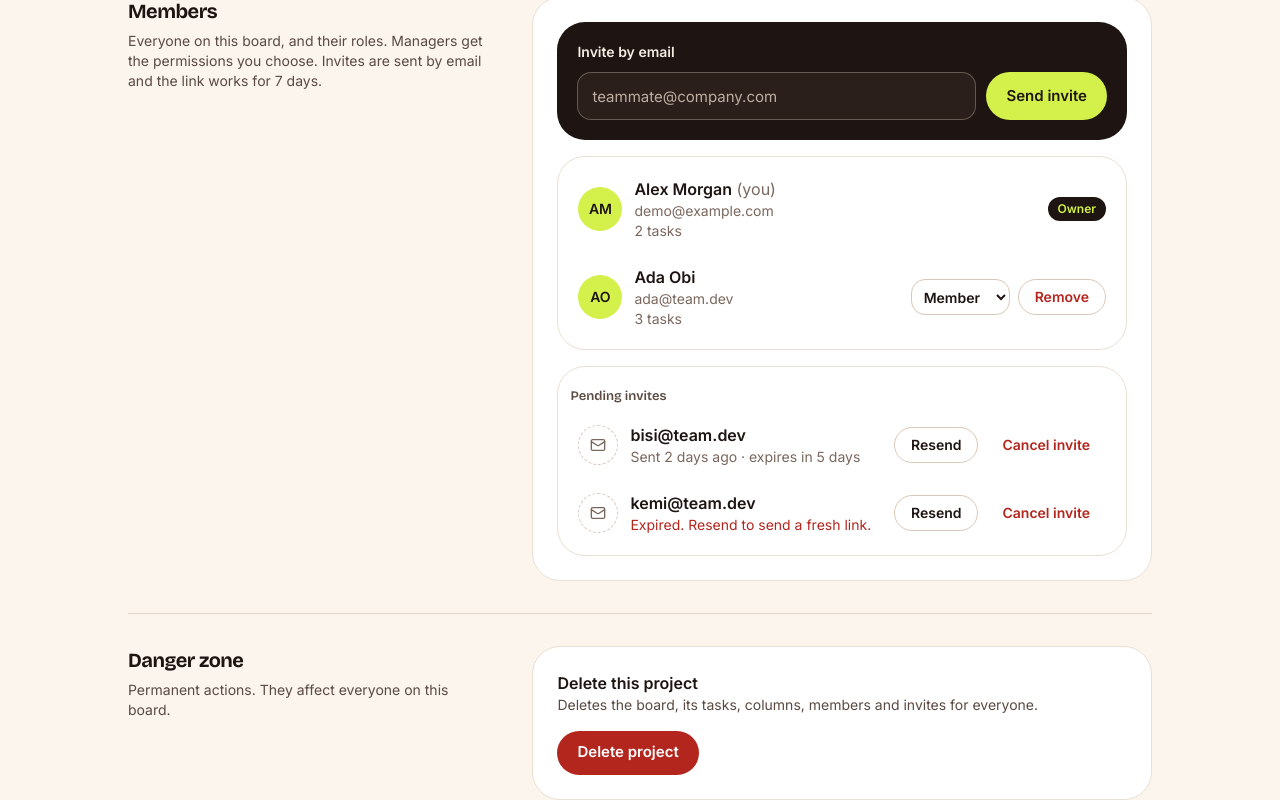
ProjectSettingsContent › gives the owner editable General settings and Delete in the Danger zone
The image size is (1280, 800).
(page scrolled)
Click the button "Delete project". click: (628, 753)
box: [557,731,699,775]
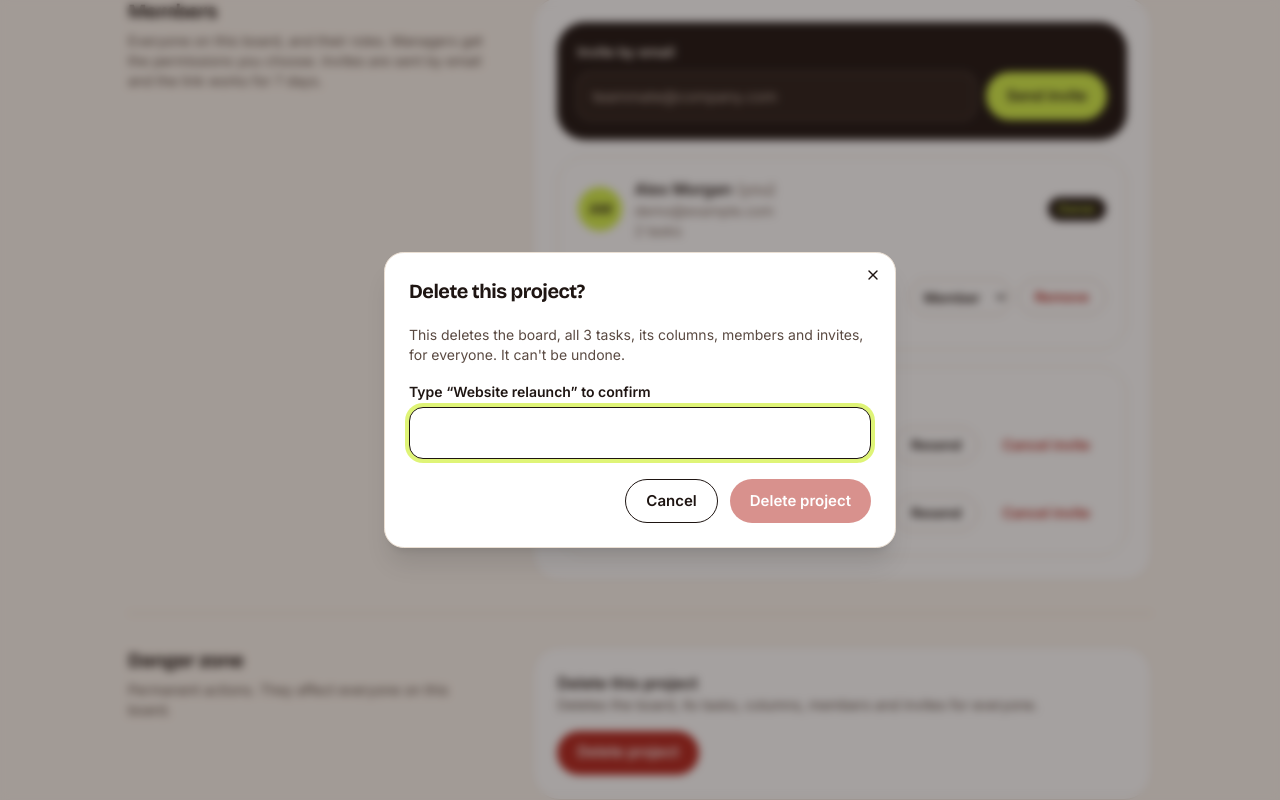
Check: the dialog "Delete this project?" is shown, box [384,252,896,548]
